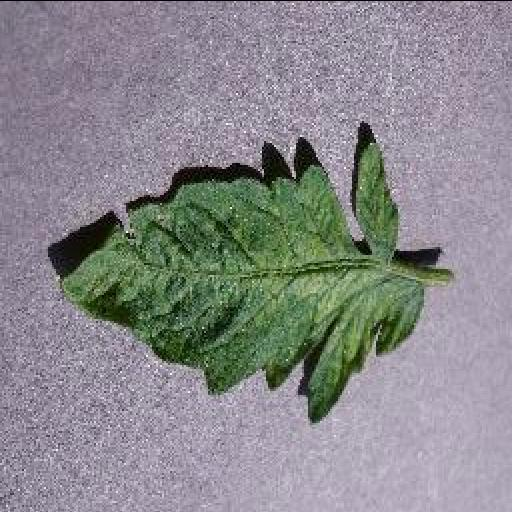disease_tomato: (52, 134, 426, 430)
